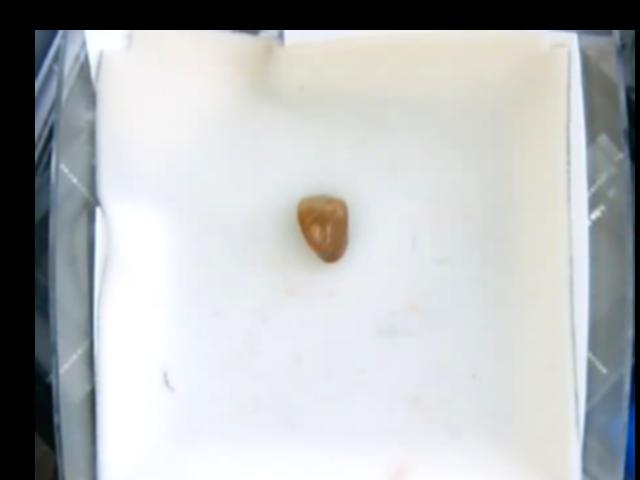Pebble: (298, 195, 347, 263)
